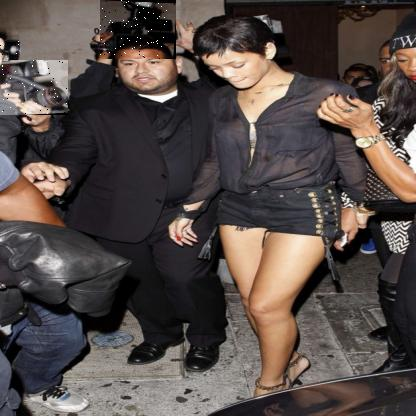Camera: (101, 1, 178, 61), (1, 61, 70, 117), (1, 36, 21, 59)
